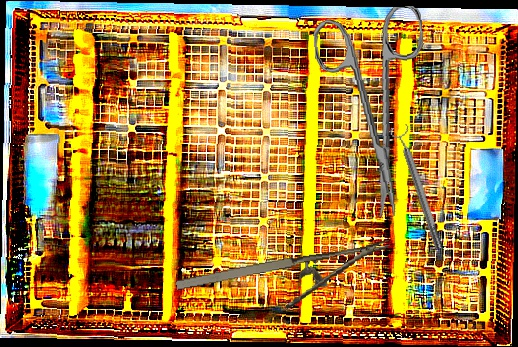Fixation Ring: (388, 122, 449, 253)
Iris Scissors: (311, 5, 439, 222)
Needle Holder: (174, 239, 398, 326)
